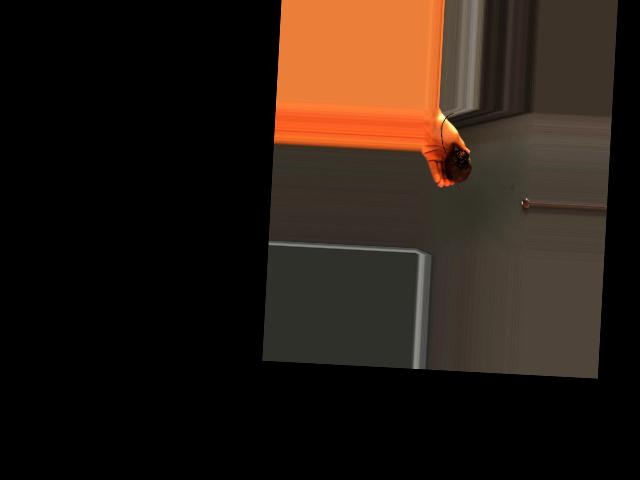beet: (437, 113, 473, 192)
